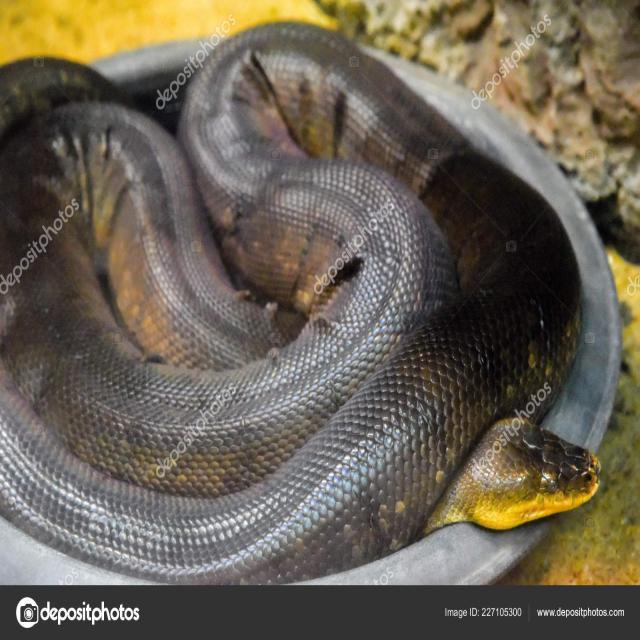Snake: (0, 6, 640, 575)
